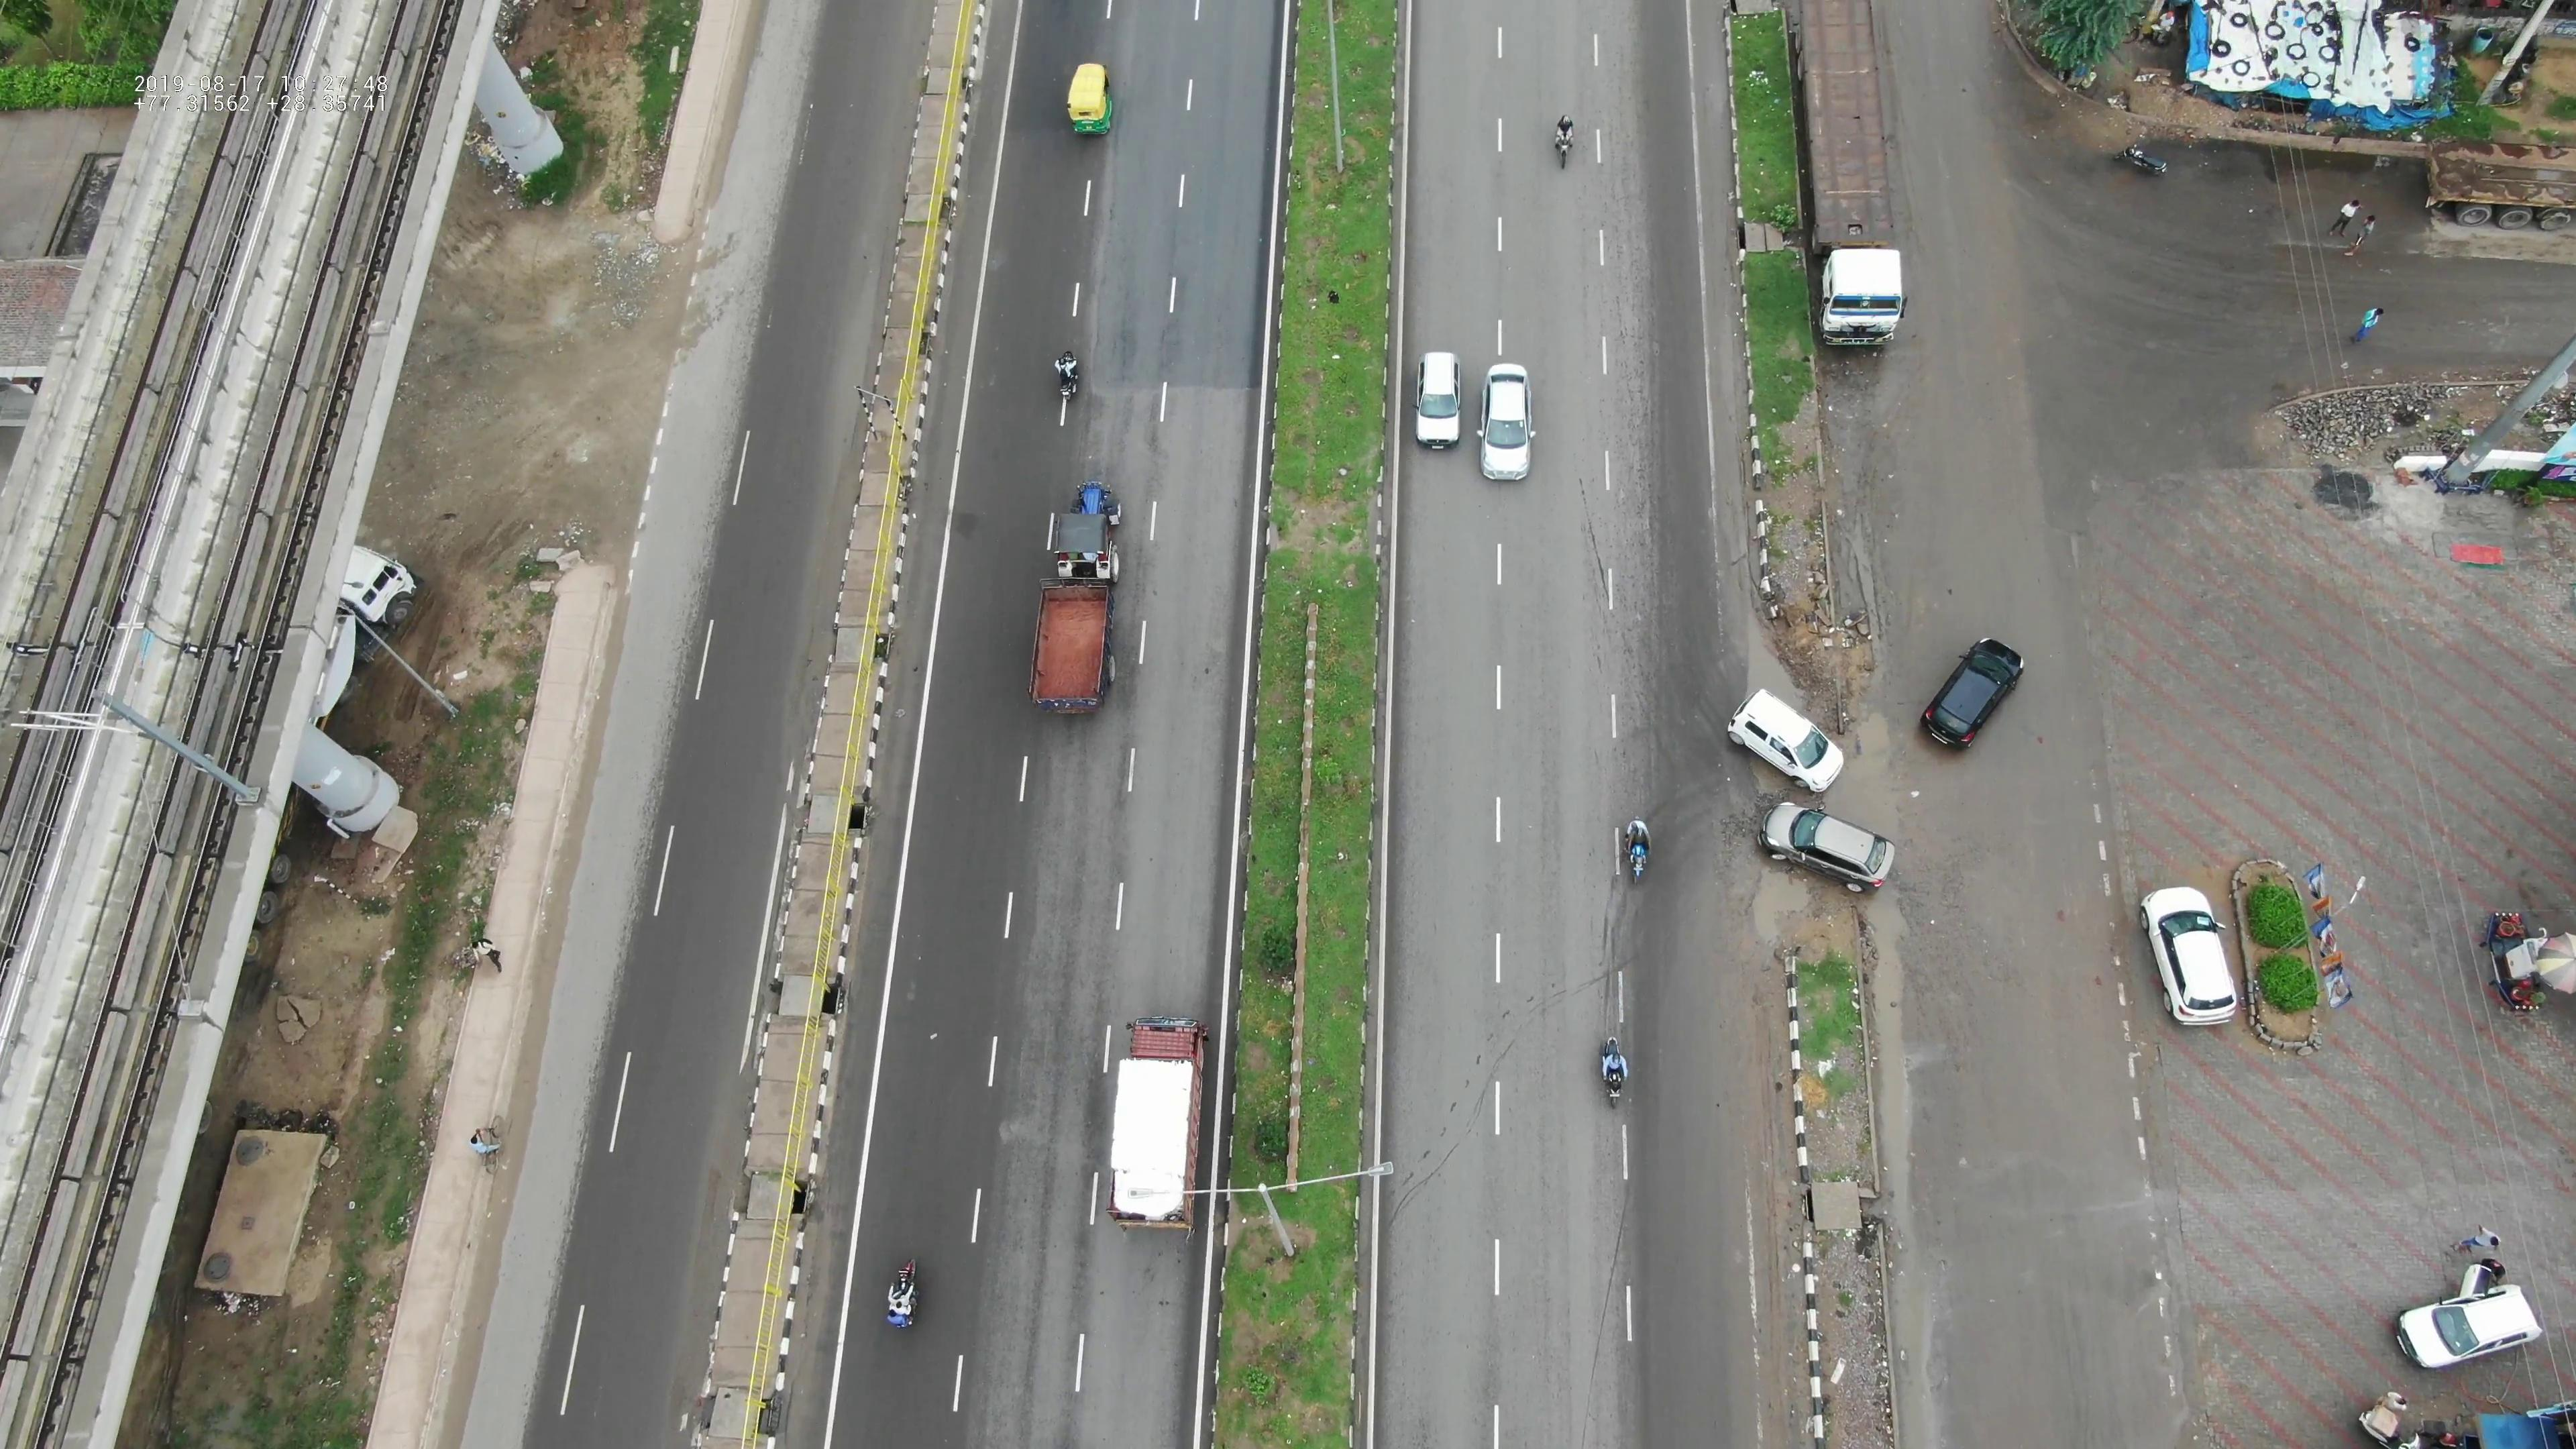Potholes: (1736, 862, 1826, 968), (1826, 674, 1905, 757)
Waterlogging: (1868, 941, 1941, 1221)
